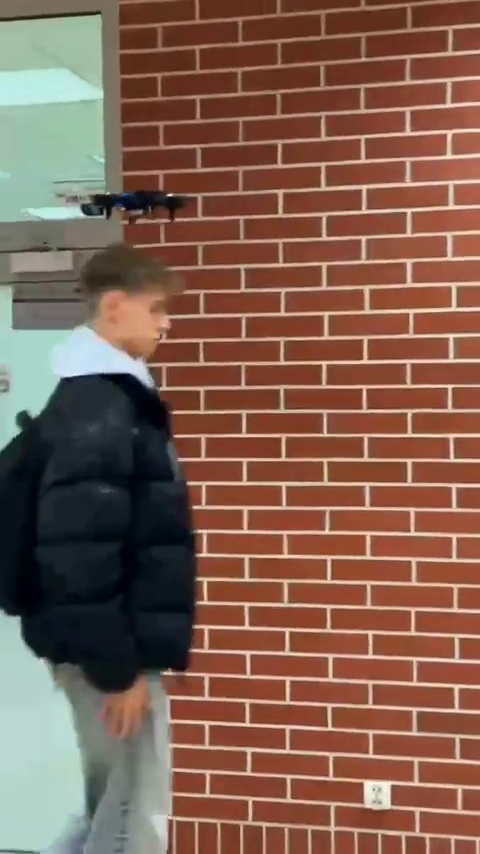drone: (77, 189, 189, 220)
no vest: (0, 250, 200, 853)
